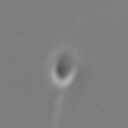normal: (44, 87, 83, 128)
